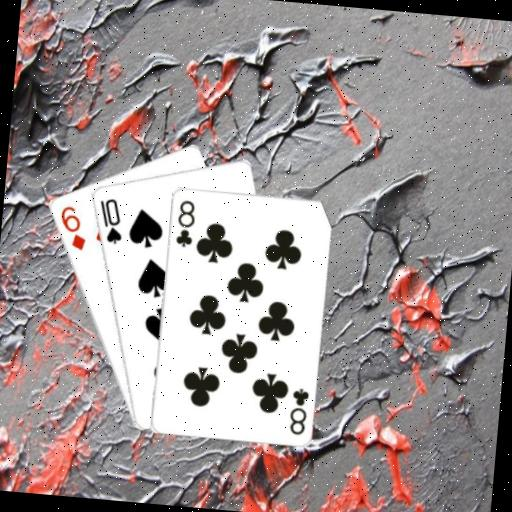10S: (93, 194, 126, 247)
6D: (54, 202, 90, 253)
8C: (171, 196, 197, 249), (285, 384, 311, 437)
